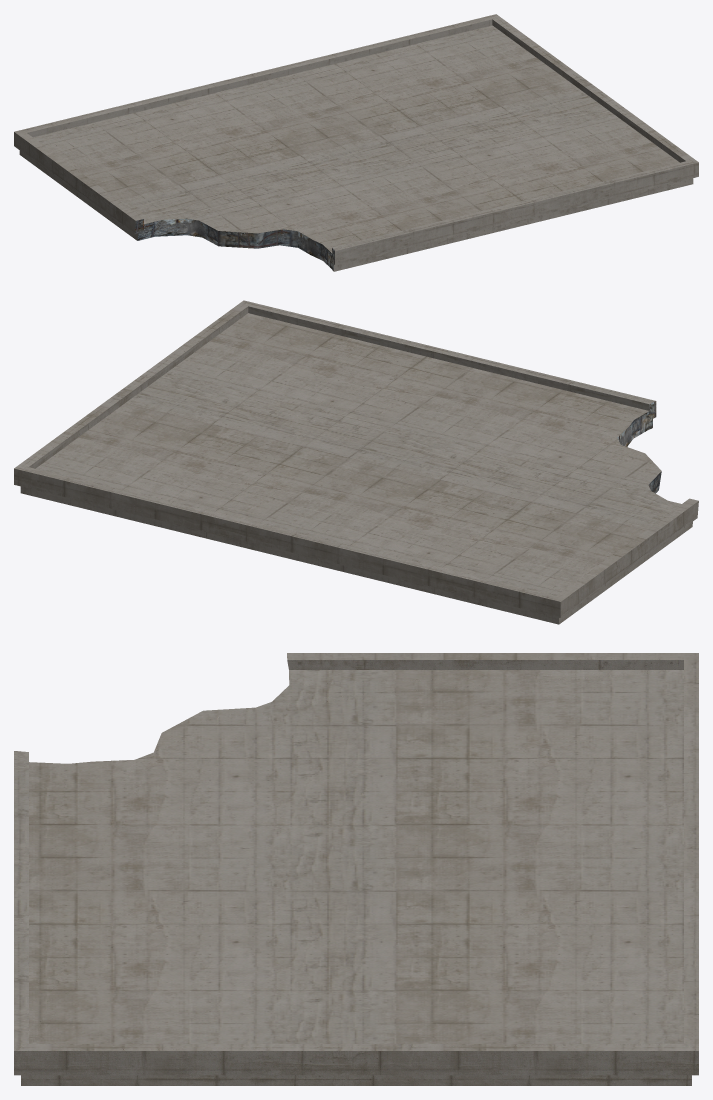
Rendered from Ruin2F_LOD1.fbx.
3 views of the same model, one above another, from view 1: azimuth 30°, elevation 25°; view 2: azimuth 150°, elevation 25°; view 3: azimuth 270°, elevation 25° (orthographic). The views are drawn at different scales.
Visible parts, largest first — view 1: polySurface481; view 2: polySurface481; view 3: polySurface481.
Part boxes in pixels (box(x1,y1,x2,y2)): polySurface481: box(14, 14, 698, 271); polySurface481: box(14, 300, 698, 624); polySurface481: box(14, 653, 698, 1085).
Bounding box in the file's own units: 14.61 × 0.6504 × 10.63.
